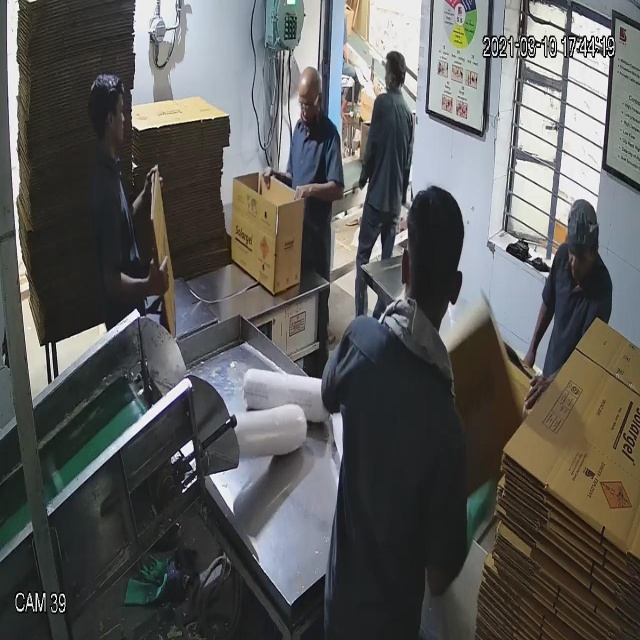Sin_guantes: (93, 253, 187, 316), (521, 285, 558, 376), (285, 175, 348, 209)
